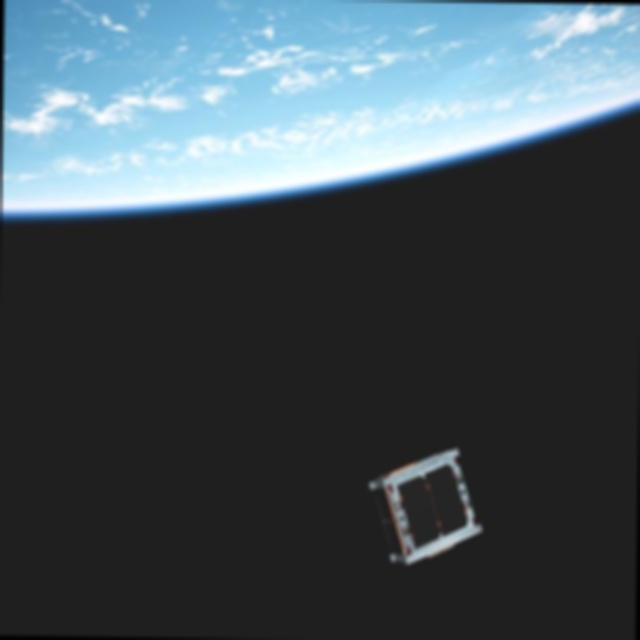satellite: (362, 445, 492, 574)
